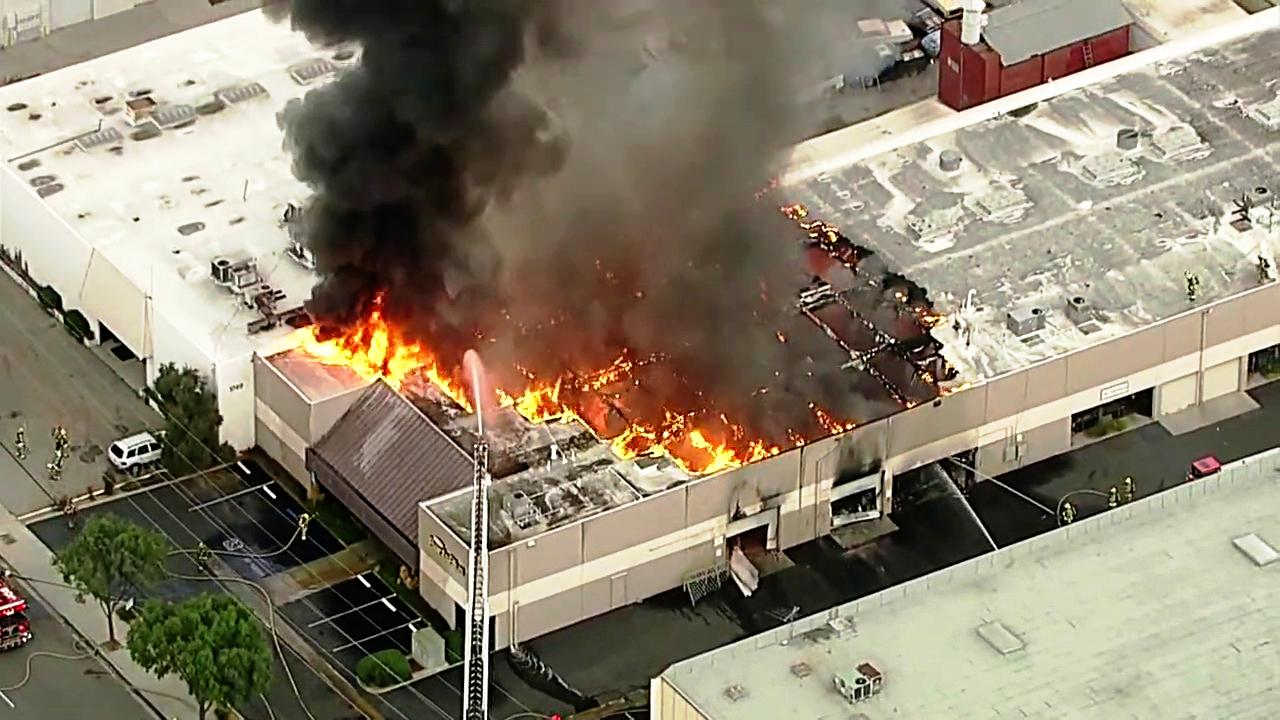fire: (300, 295, 425, 386)
smoke: (285, 0, 529, 307)
